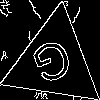G: (29, 37, 79, 94)
